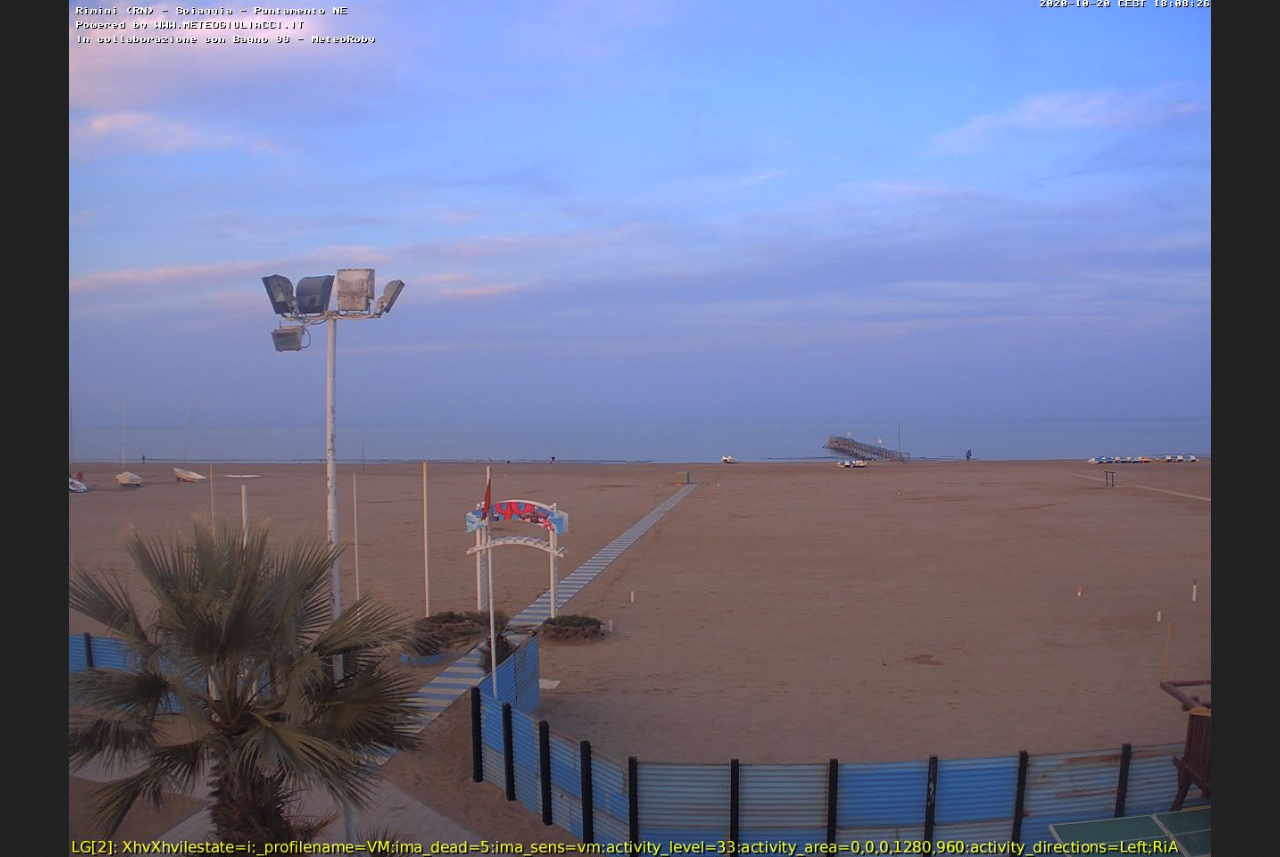no: (477, 470, 494, 515)
